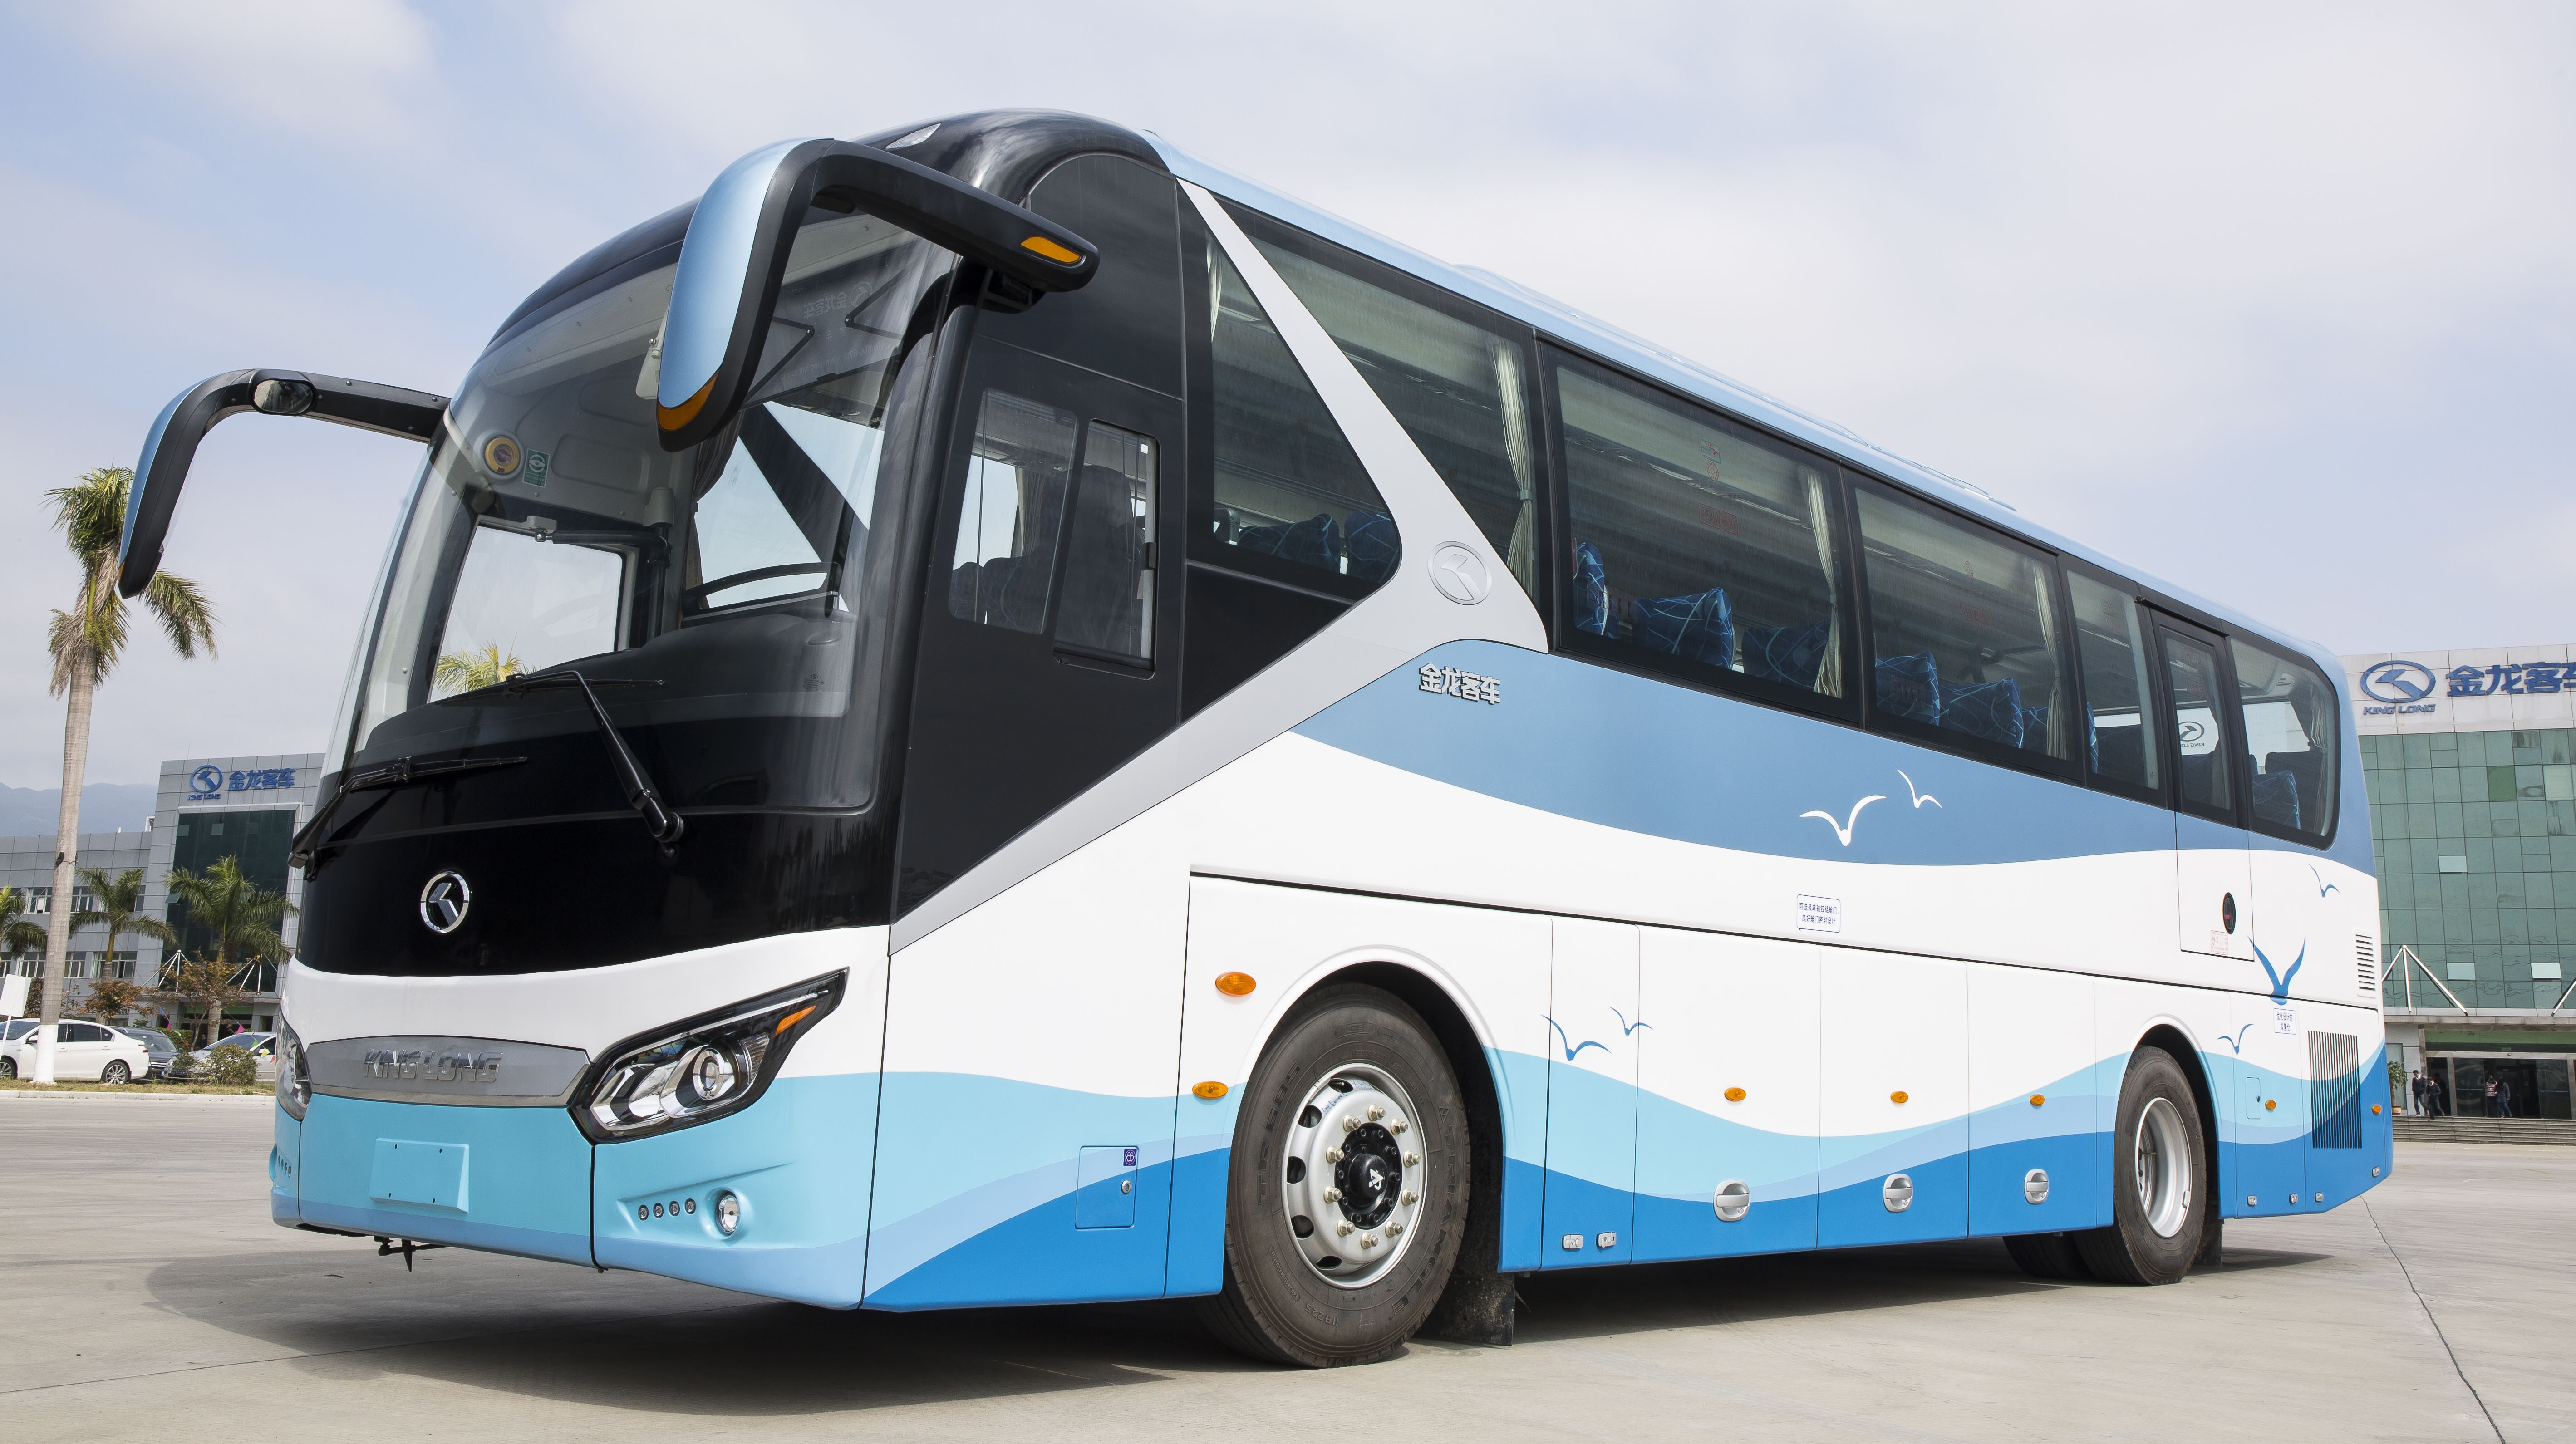bus: (281, 110, 2406, 1377)
